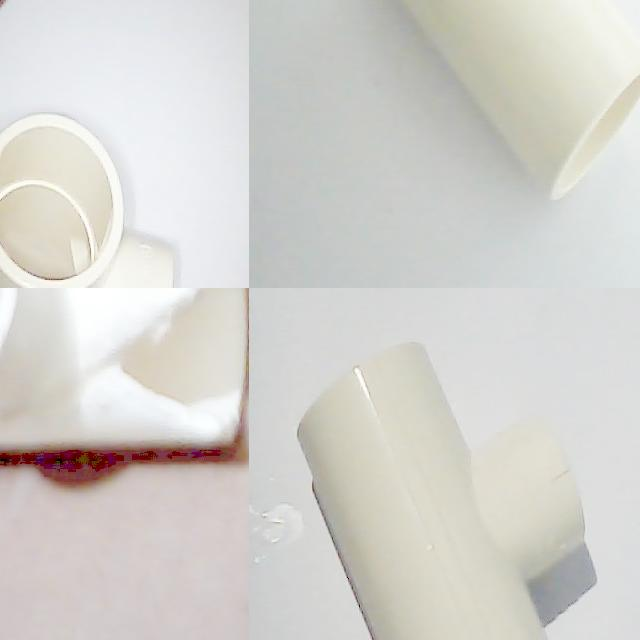Defective: (70, 288, 244, 464)
T Joint: (295, 342, 597, 640), (396, 0, 640, 204), (0, 113, 179, 288)
